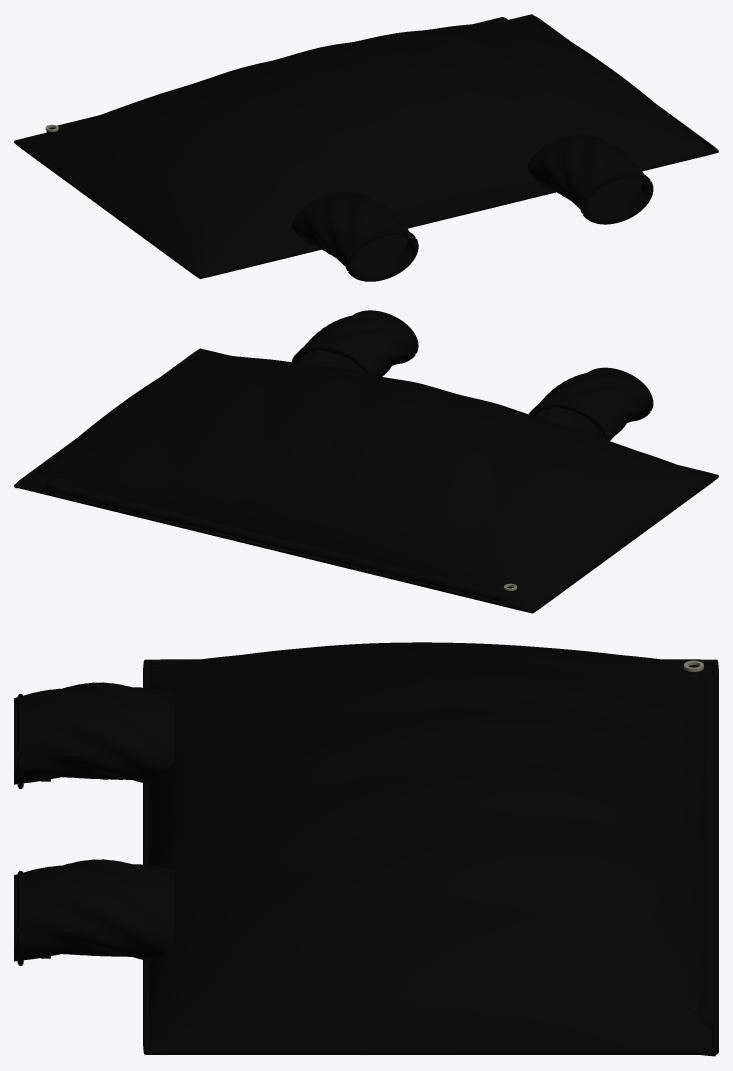
Rendered from C01_DarkBag.fbx.
The picture shows the model from 3 angles, top to bottom: view 1: azimuth 30°, elevation 25°; view 2: azimuth 150°, elevation 25°; view 3: azimuth 270°, elevation 25°; orthographic projection. The views are drawn at different scales.
Parts seen in each view (by area): view 1: BagCloth, SleeveClothRight, SleeveClothLeft, Body_Mesh, SleeveRight_Mesh, SleeveLeft_Mesh; view 2: BagCloth, SleeveClothRight, SleeveClothLeft, EntrySeal_Mesh, Body_Mesh, SleeveRight_Mesh, SleeveLeft_Mesh; view 3: BagCloth, SleeveClothLeft, SleeveClothRight, Body_Mesh, EntrySeal_Mesh, SleeveRight_Mesh, SleeveLeft_Mesh.
Part boxes in pixels (<box>): BagCloth: <box>20,18,712,274</box>; SleeveClothRight: <box>291,192,417,280</box>; SleeveClothLeft: <box>527,134,652,223</box>; Body_Mesh: <box>14,14,718,278</box>; SleeveRight_Mesh: <box>319,192,418,281</box>; SleeveLeft_Mesh: <box>556,135,653,224</box>; BagCloth: <box>21,352,712,609</box>; SleeveClothRight: <box>528,370,650,440</box>; SleeveClothLeft: <box>291,312,415,376</box>; EntrySeal_Mesh: <box>46,479,509,602</box>; Body_Mesh: <box>14,348,718,613</box>; SleeveRight_Mesh: <box>532,367,653,438</box>; SleeveLeft_Mesh: <box>296,310,418,373</box>; BagCloth: <box>148,642,712,1049</box>; SleeveClothLeft: <box>14,859,174,961</box>; SleeveClothRight: <box>14,682,174,784</box>; Body_Mesh: <box>143,659,718,1056</box>; EntrySeal_Mesh: <box>690,673,714,1028</box>; SleeveRight_Mesh: <box>17,694,173,788</box>; SleeveLeft_Mesh: <box>17,871,173,965</box>.
Bounding box in the file's own units: 0.554 × 0.0836 × 0.421.
